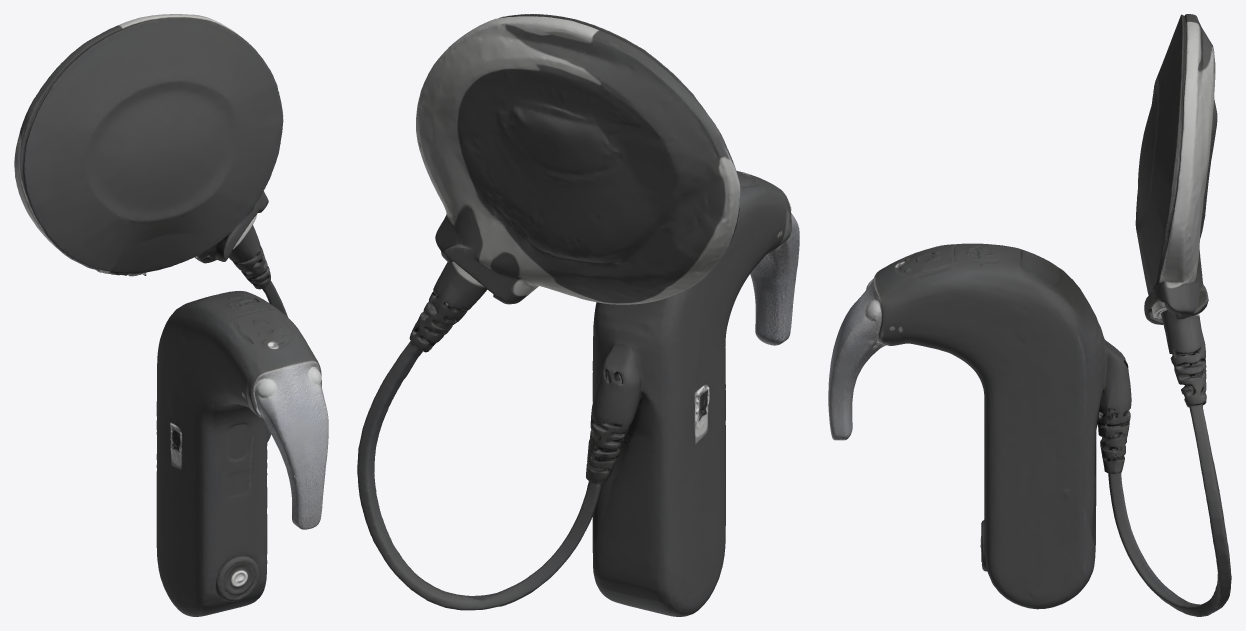
The picture shows the model from 3 angles, left to right: view 1: azimuth 30°, elevation 25°; view 2: azimuth 150°, elevation 25°; view 3: azimuth 270°, elevation 25°; orthographic projection. The views are drawn at different scales.
Bounding box in the file's own units: 1.09 × 1.9 × 1.23.
Materials: 1 (1 with a texture image).
